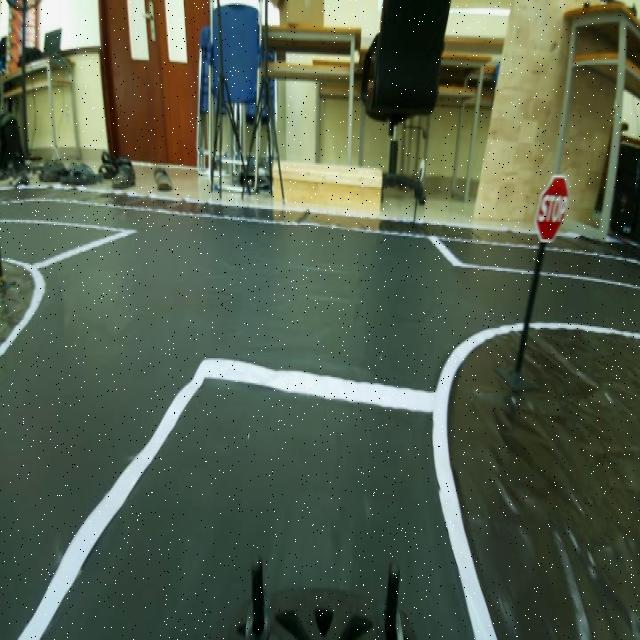stop: (531, 160, 574, 258)
